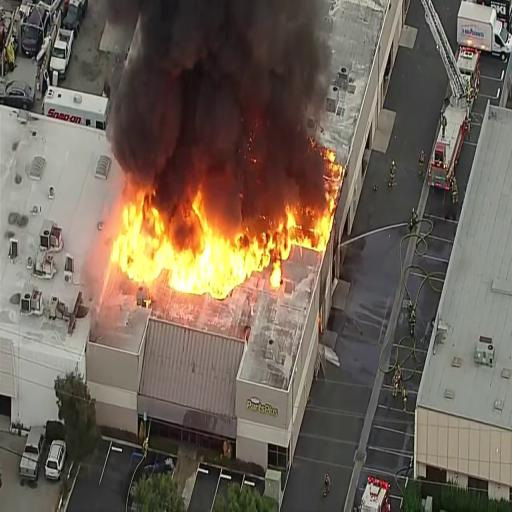fire: (167, 208, 244, 295), (115, 187, 170, 283), (241, 212, 300, 276), (302, 200, 334, 250)
smoke: (115, 4, 331, 178), (108, 28, 183, 176)
